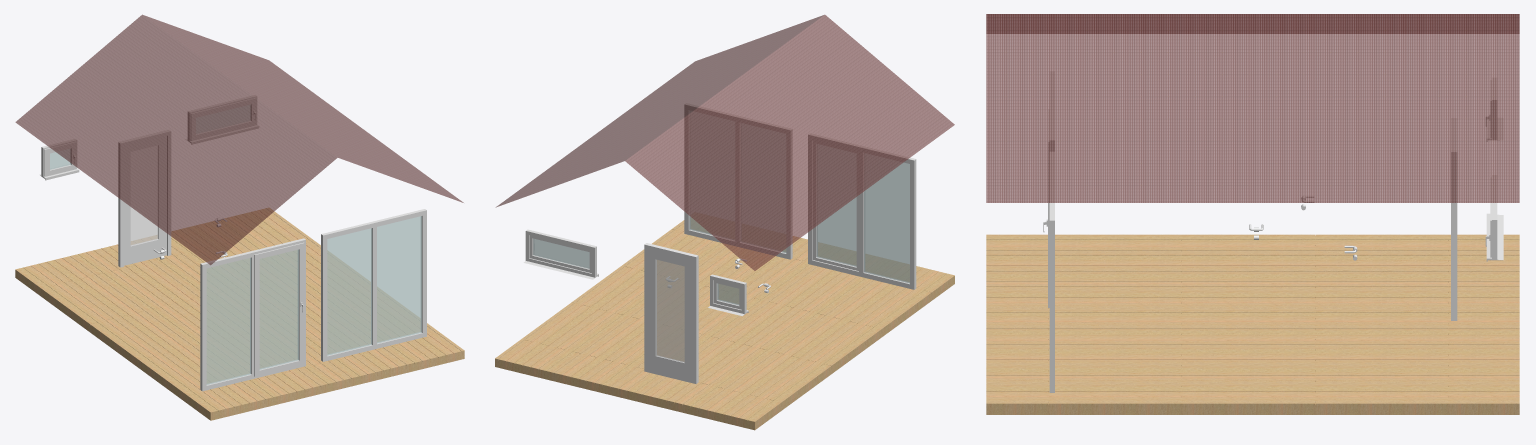
File: ban1.glb
3 renders of one model, left to right at view 1: azimuth 30°, elevation 25°; view 2: azimuth 150°, elevation 25°; view 3: azimuth 270°, elevation 25°, orthographic. The views are drawn at different scales.
Parts seen in each view (by area): view 1: geometry-lumionModel.002, geometry-lumionModel, geometry-lumionModel.008, geometry-lumionModel.007, geometry-lumionModel.006, geometry-lumionModel.005; view 2: geometry-lumionModel.002, geometry-lumionModel, geometry-lumionModel.008, geometry-lumionModel.007, geometry-lumionModel.006, geometry-lumionModel.005; view 3: geometry-lumionModel.002, geometry-lumionModel, geometry-lumionModel.007, geometry-lumionModel.006.
Boxes of the visible parts, <box> form: geometry-lumionModel.002: <box>15,14,463,264</box>; geometry-lumionModel: <box>15,208,464,420</box>; geometry-lumionModel.008: <box>50,105,421,384</box>; geometry-lumionModel.007: <box>39,95,426,391</box>; geometry-lumionModel.006: <box>118,130,227,267</box>; geometry-lumionModel.005: <box>130,145,158,245</box>; geometry-lumionModel.002: <box>496,15,954,270</box>; geometry-lumionModel: <box>495,217,954,430</box>; geometry-lumionModel.008: <box>533,111,909,305</box>; geometry-lumionModel.007: <box>523,103,916,316</box>; geometry-lumionModel.006: <box>644,243,770,383</box>; geometry-lumionModel.005: <box>656,259,684,362</box>; geometry-lumionModel.002: <box>986,14,1519,202</box>; geometry-lumionModel: <box>986,234,1519,414</box>; geometry-lumionModel.007: <box>1043,71,1503,392</box>; geometry-lumionModel.006: <box>1249,118,1457,320</box>.
Size of what is drawn, in the model's own units: 4.5 by 4.68 by 6.05.
12 materials, 3 textured.
